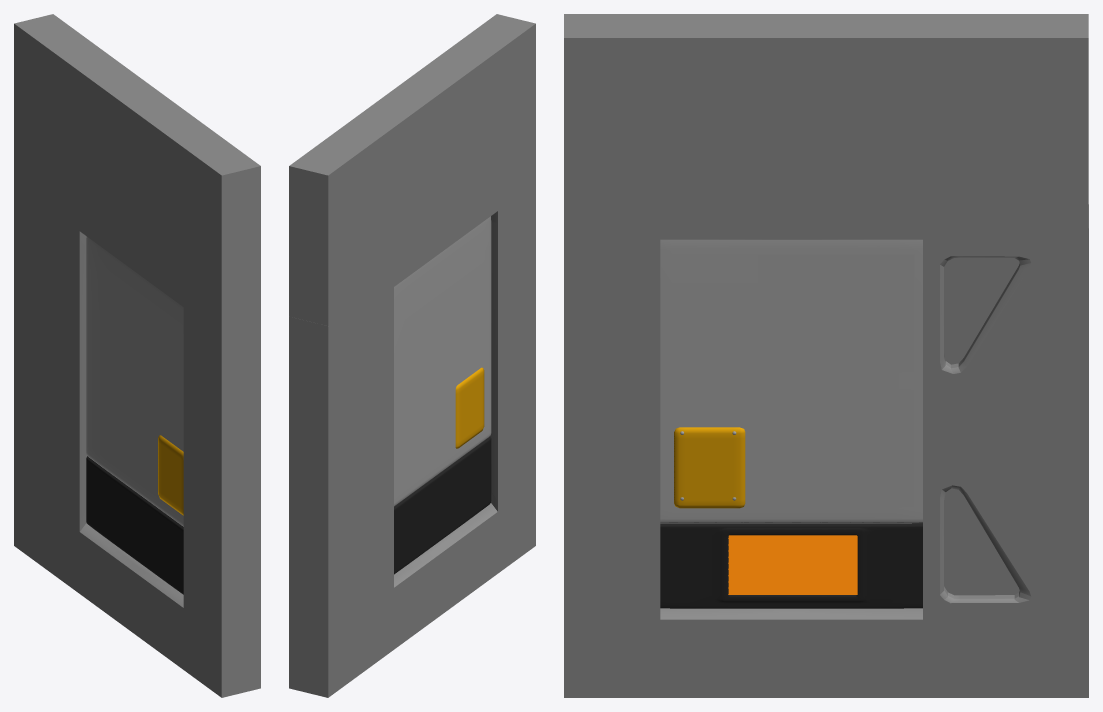
Rendered from Door.fbx.
3 renders of one model, left to right at view 1: azimuth 30°, elevation 25°; view 2: azimuth 150°, elevation 25°; view 3: azimuth 270°, elevation 25°, orthographic. The views are drawn at different scales.
Visible parts, largest first — view 1: Door_Frame1, Door1, Fusiveis1; view 2: Door_Frame1, Door1, Fusiveis1; view 3: Door_Frame1, Door1, Sign, Sign1, Fusiveis1, pPlane15, pPlane9, pPlane5, pPlane13, pPlane12, pPlane7, pPlane6.
Boxes of the visible parts, x1,y1,x2,y2 form: Door_Frame1: [14, 14, 260, 697]; Door1: [86, 236, 183, 594]; Fusiveis1: [158, 435, 183, 515]; Door_Frame1: [289, 14, 535, 697]; Door1: [394, 216, 491, 574]; Fusiveis1: [455, 367, 484, 448]; Door_Frame1: [564, 14, 1088, 697]; Door1: [660, 240, 922, 608]; Sign: [758, 389, 914, 507]; Sign1: [758, 254, 914, 372]; Fusiveis1: [674, 427, 745, 508]; pPlane15: [728, 576, 857, 582]; pPlane9: [728, 570, 857, 576]; pPlane5: [728, 539, 857, 545]; pPlane13: [728, 588, 857, 594]; pPlane12: [728, 582, 857, 588]; pPlane7: [728, 551, 857, 557]; pPlane6: [728, 545, 857, 551].
Bounding box in the file's own units: 1.19 × 15.17 × 10.93.
